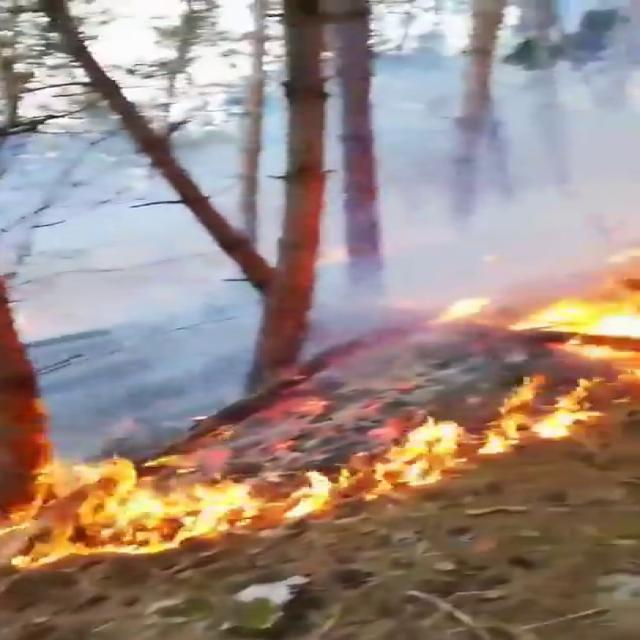Fire: (352, 275, 636, 499), (3, 416, 388, 580)
Smoke: (3, 28, 640, 394)
